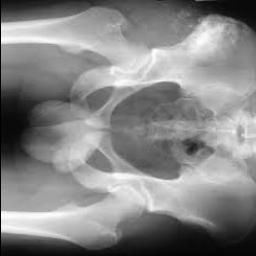cancer: (170, 15, 249, 59)
